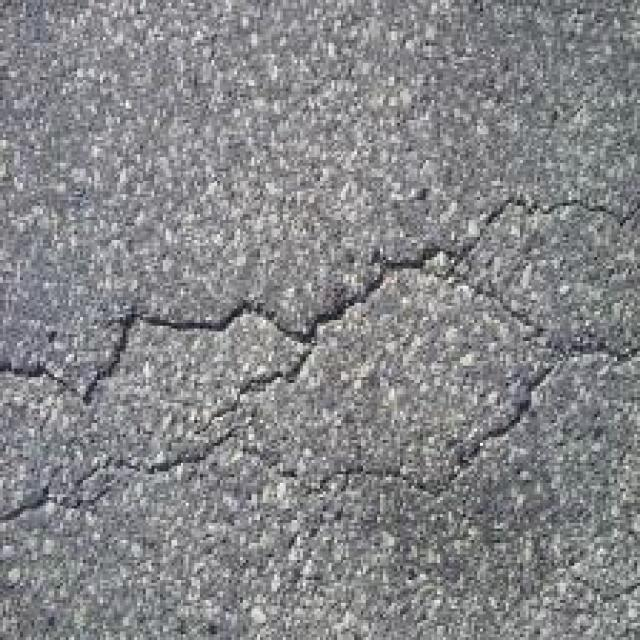crack: (0, 198, 640, 558)
